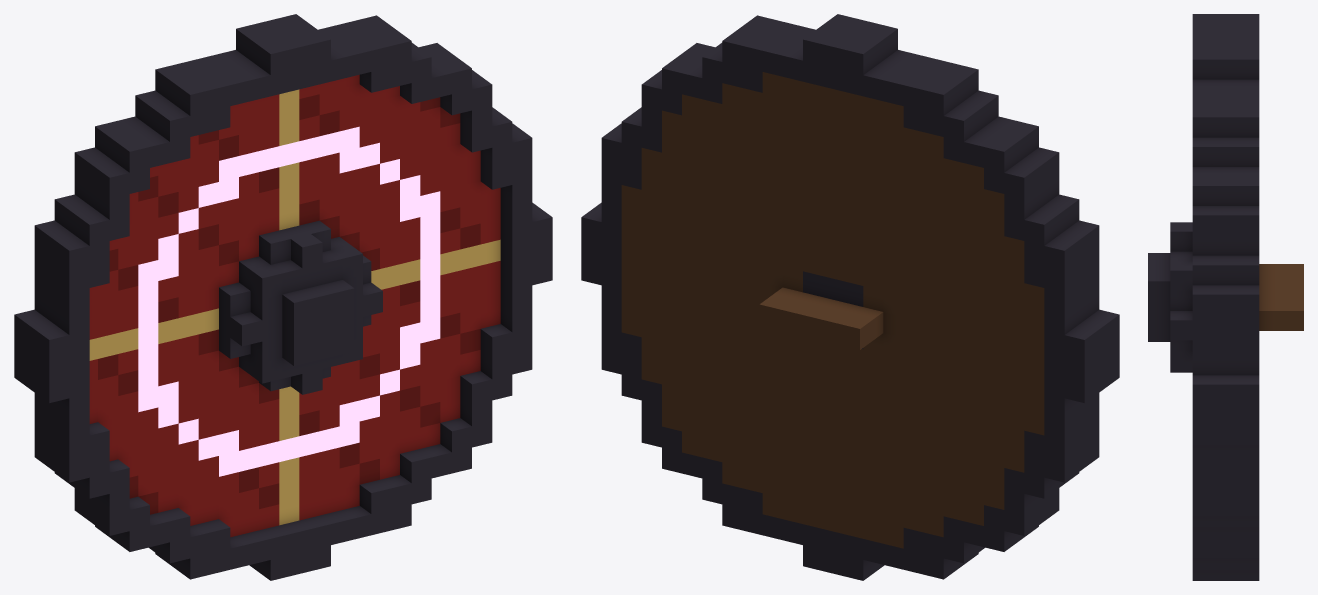
Rendered from gladius_shield_epic.glb.
3 views of the same model, side by side, from view 1: azimuth 30°, elevation 25°; view 2: azimuth 150°, elevation 25°; view 3: azimuth 270°, elevation 25° (orthographic). The views are drawn at different scales.
Parts seen in each view (by area): view 1: gladius_shield_epic_body; view 2: gladius_shield_epic_body; view 3: gladius_shield_epic_body.
Part boxes in pixels (box(x1,y1,x2,y2)): gladius_shield_epic_body: box(14, 14, 552, 580); gladius_shield_epic_body: box(581, 14, 1119, 580); gladius_shield_epic_body: box(1148, 14, 1303, 580).
Size of the model in its own units: 0.9766 by 0.9766 by 0.2734.
1 material, 1 textured.
